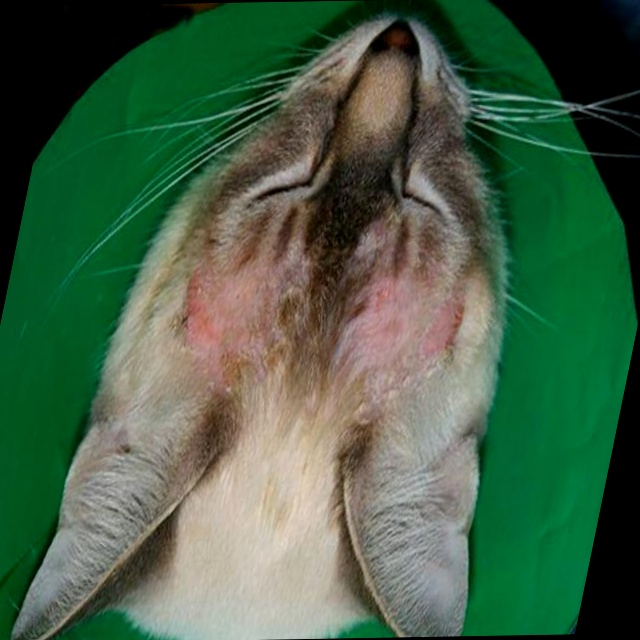ringworm: (341, 274, 472, 379), (168, 259, 285, 359)
